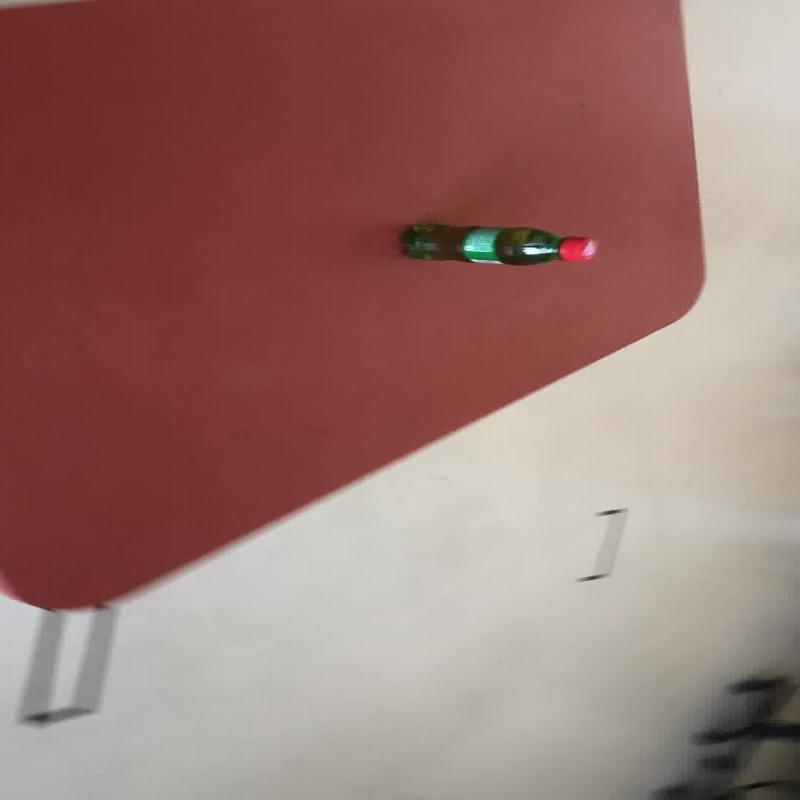guarana: (396, 220, 598, 266)
